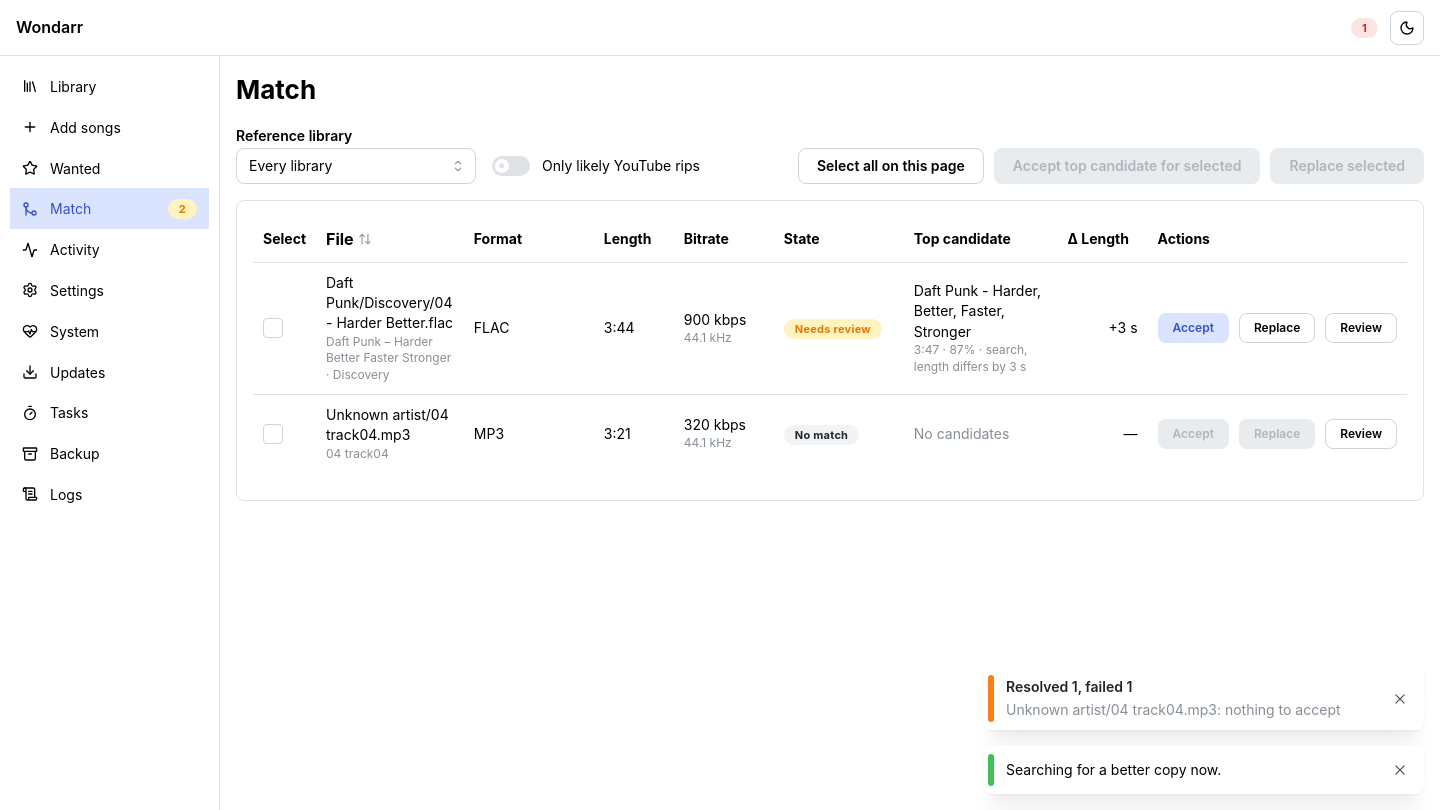
MatchQueuePage › replaces every selected file and says how many songs are being searched
This screenshot has width=1440, height=810.
Click the button "Select all on this page".
click(891, 166)  # box [798,148,984,184]
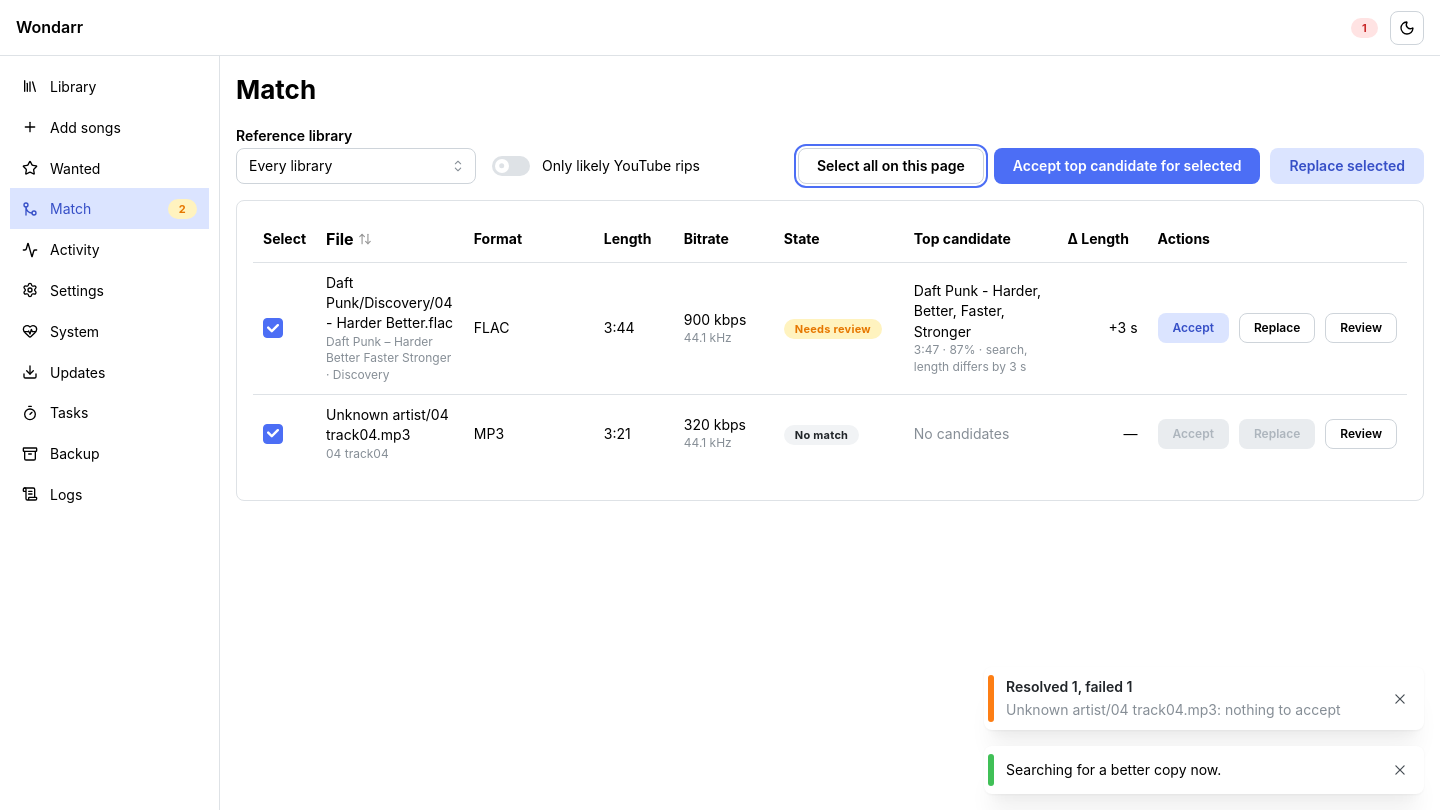
Click the button "Replace selected".
click(1347, 166)  # box [1270,148,1424,184]
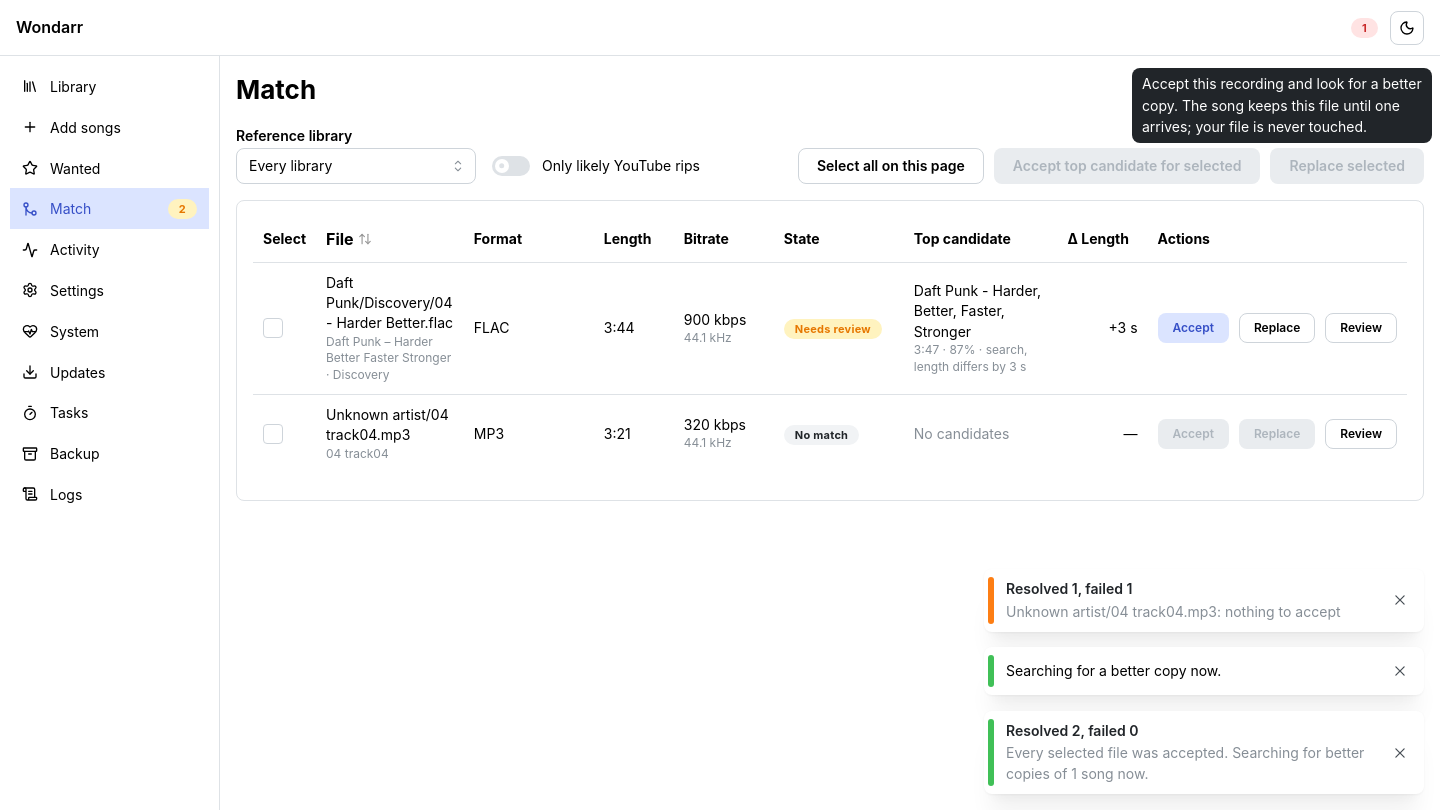
Result: the text "Searching for better copies of 1 song now" is shown at [1006,744,1364,782]
